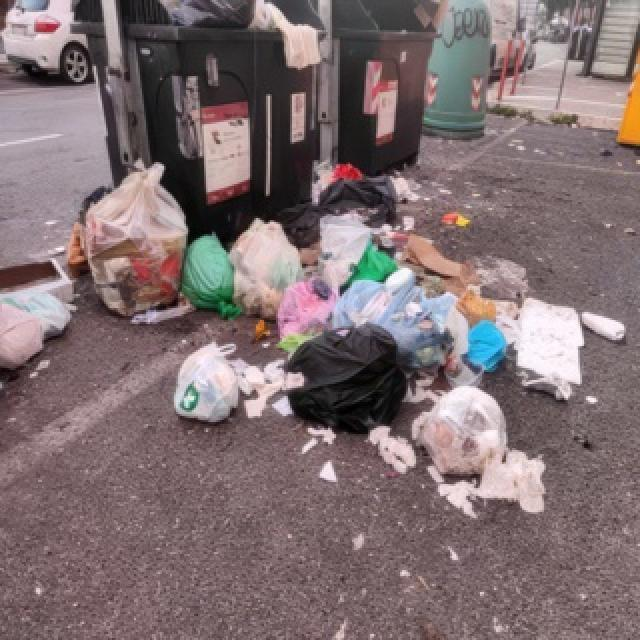Trashbag: (278, 312, 435, 447), (284, 171, 396, 240)
